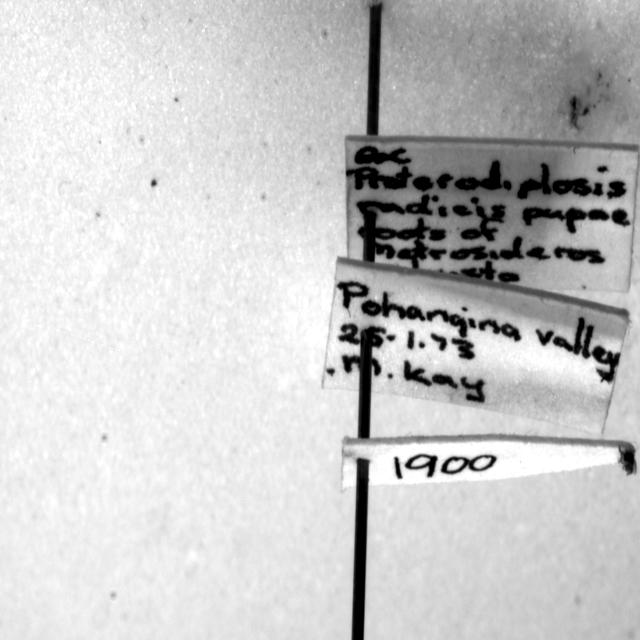hand_label: (322, 259, 629, 435), (345, 135, 639, 291), (341, 435, 636, 491)
